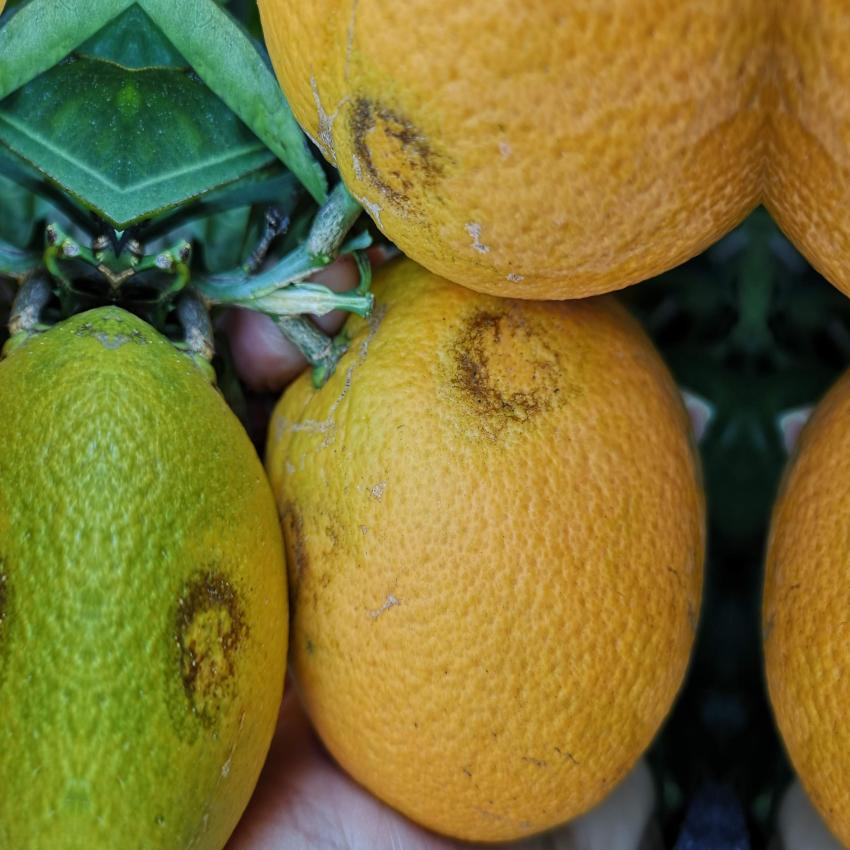Mal estado: (262, 287, 722, 836), (249, 0, 767, 323), (0, 298, 301, 840)
